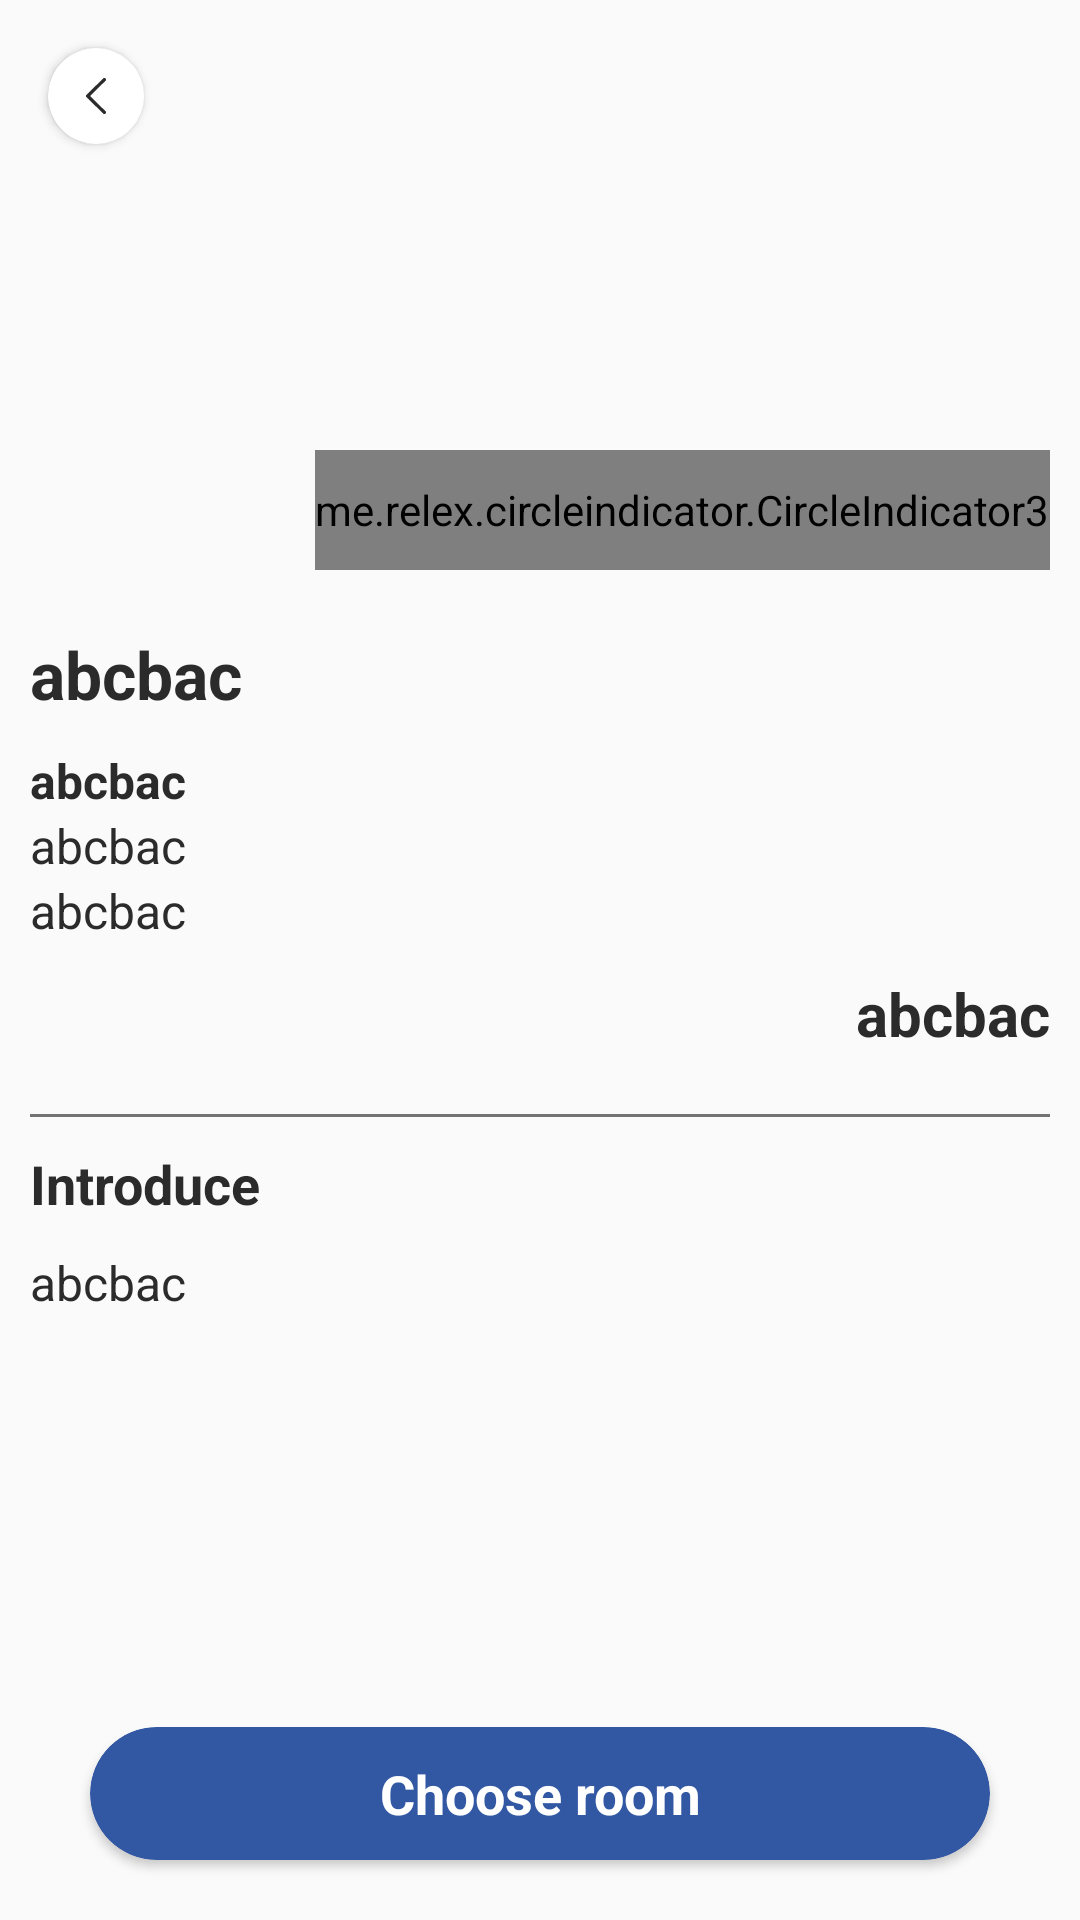

Icons on this 1080px x 1920px Android screen, each with its box as (x1, y1, x2, y2):
back: (48, 48, 107, 144)
